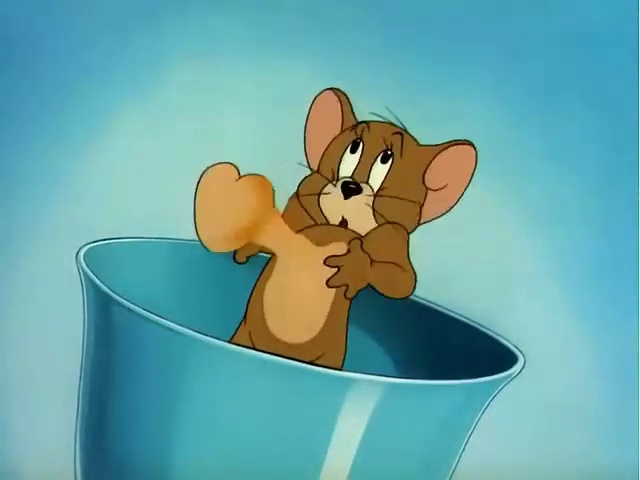jerry: (157, 40, 496, 392)
